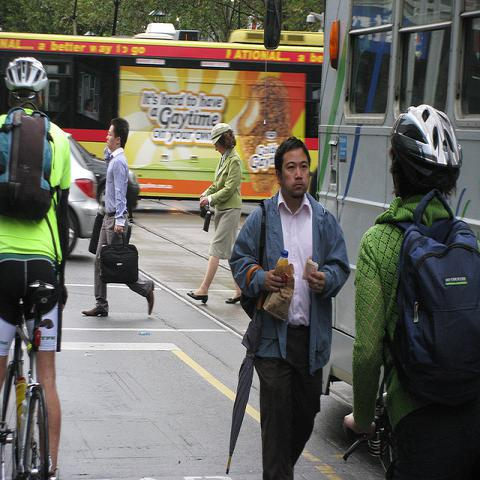bus: (316, 2, 479, 390), (3, 17, 320, 201)
car: (68, 134, 140, 248)
